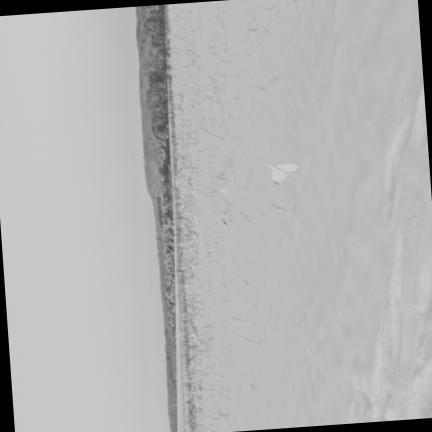Shahed: (267, 162, 298, 183)
